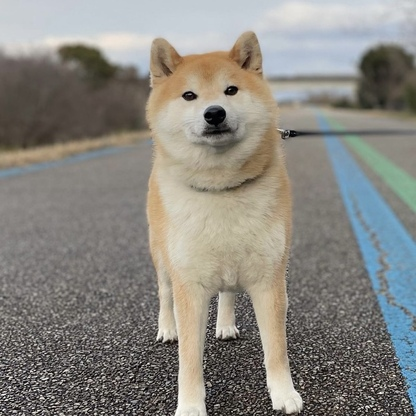shiba: (123, 24, 309, 416)
